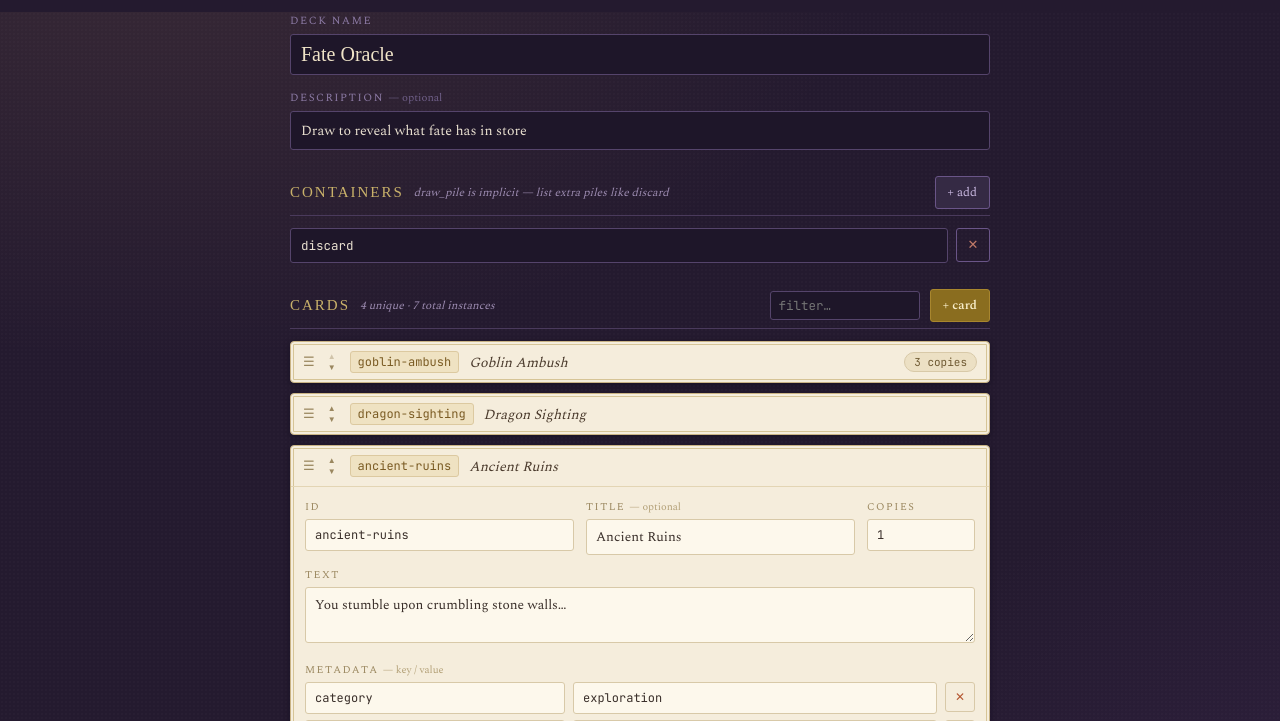
Test: CARDS filter › narrows by id substring
Type "goblin" into the field with placeholder "filter…".
click(844, 306); type("goblin")  # box [770,291,920,320]
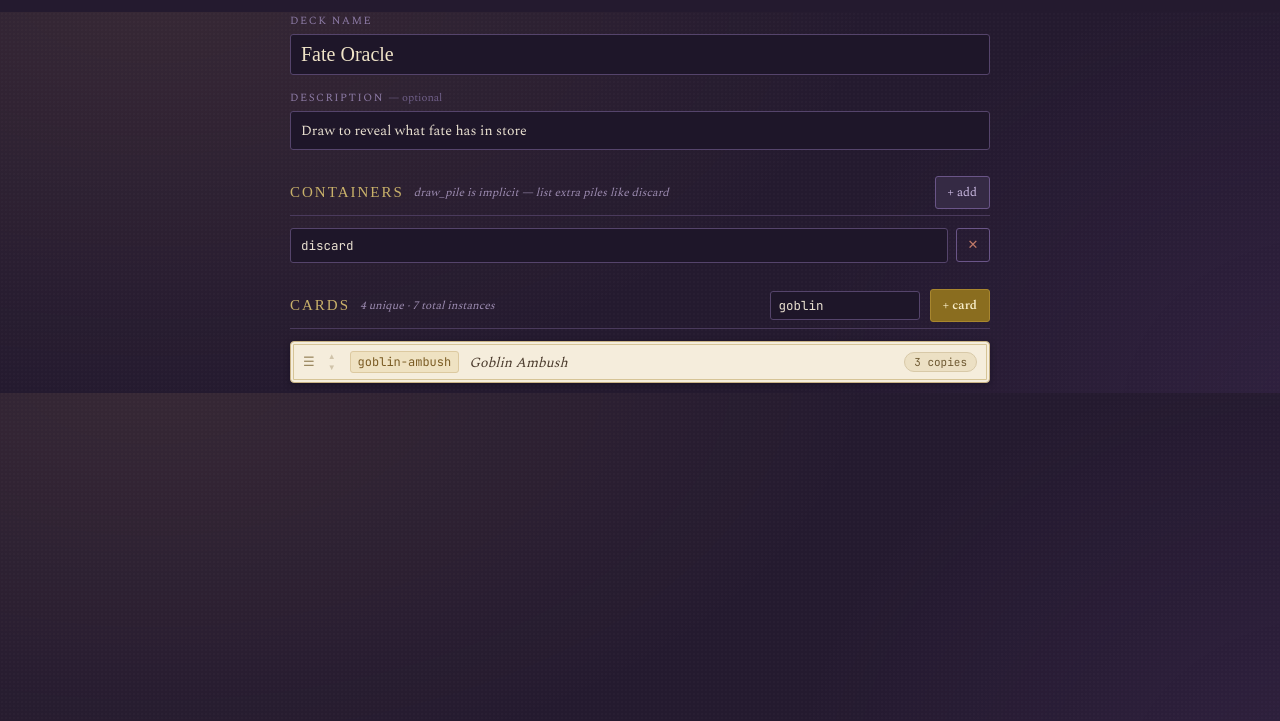
Expected: the element with test id "card-row-c1" is shown, [290,341,990,383]
Result: the element with test id "card-row-c2" is gone
